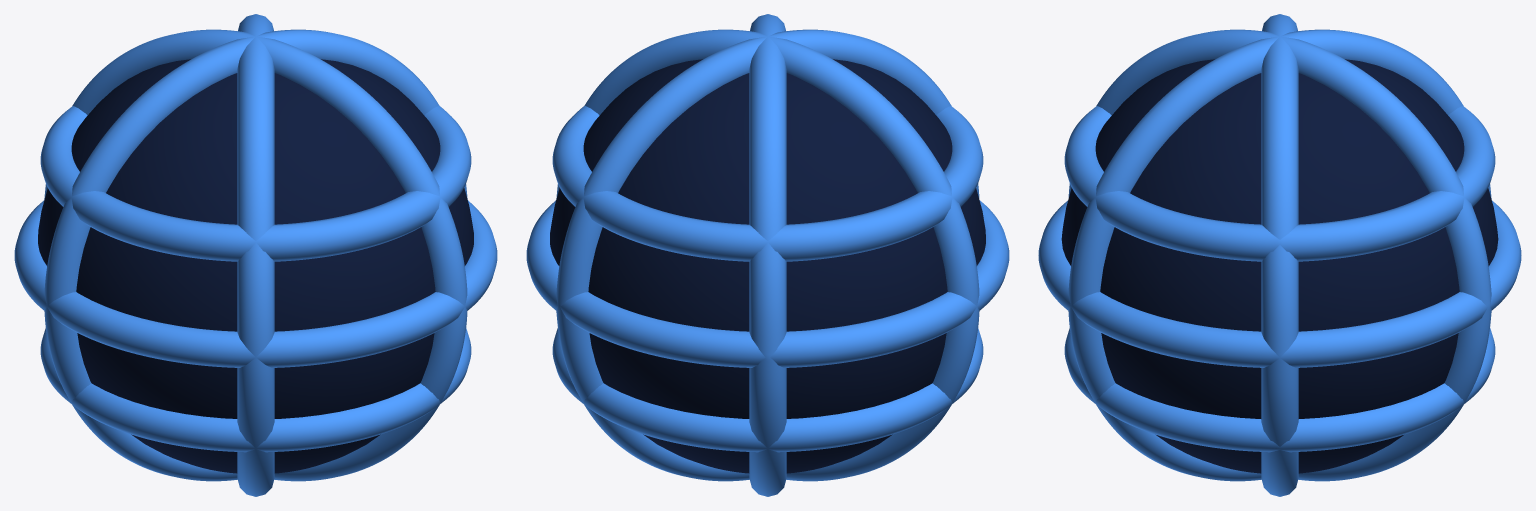
File: netwer_globe.glb
3 renders of one model, left to right at view 1: azimuth 30°, elevation 25°; view 2: azimuth 150°, elevation 25°; view 3: azimuth 270°, elevation 25°, orthographic.
Visible parts, largest first — view 1: Netwer_InnerSphere, Netwer_Meridian_120.0, Netwer_Meridian_0.0, Netwer_Equator, Netwer_Latitude_28, Netwer_Meridian_60.0, Netwer_Latitude_-28; view 2: Netwer_InnerSphere, Netwer_Meridian_60.0, Netwer_Meridian_0.0, Netwer_Equator, Netwer_Latitude_28, Netwer_Meridian_120.0, Netwer_Latitude_-28; view 3: Netwer_InnerSphere, Netwer_Meridian_60.0, Netwer_Meridian_120.0, Netwer_Equator, Netwer_Latitude_28, Netwer_Meridian_0.0, Netwer_Latitude_-28.
Boxes of the visible parts, x1,y1,x2,y2 form: Netwer_InnerSphere: (38, 59, 473, 473); Netwer_Meridian_120.0: (44, 29, 467, 481); Netwer_Meridian_0.0: (44, 29, 467, 481); Netwer_Equator: (14, 200, 497, 367); Netwer_Latitude_28: (40, 105, 471, 261); Netwer_Meridian_60.0: (237, 14, 274, 496); Netwer_Latitude_-28: (40, 328, 471, 452); Netwer_InnerSphere: (550, 59, 985, 473); Netwer_Meridian_60.0: (556, 29, 979, 481); Netwer_Meridian_0.0: (556, 29, 979, 481); Netwer_Equator: (526, 200, 1009, 367); Netwer_Latitude_28: (552, 105, 983, 261); Netwer_Meridian_120.0: (749, 14, 786, 496); Netwer_Latitude_-28: (552, 328, 983, 452); Netwer_InnerSphere: (1061, 59, 1498, 473); Netwer_Meridian_60.0: (1068, 29, 1491, 481); Netwer_Meridian_120.0: (1068, 29, 1491, 481); Netwer_Equator: (1038, 200, 1521, 367); Netwer_Latitude_28: (1064, 106, 1495, 261); Netwer_Meridian_0.0: (1261, 14, 1298, 496); Netwer_Latitude_-28: (1064, 328, 1495, 452).
Bounding box in the file's own units: 2.21 × 2.2 × 2.2.
